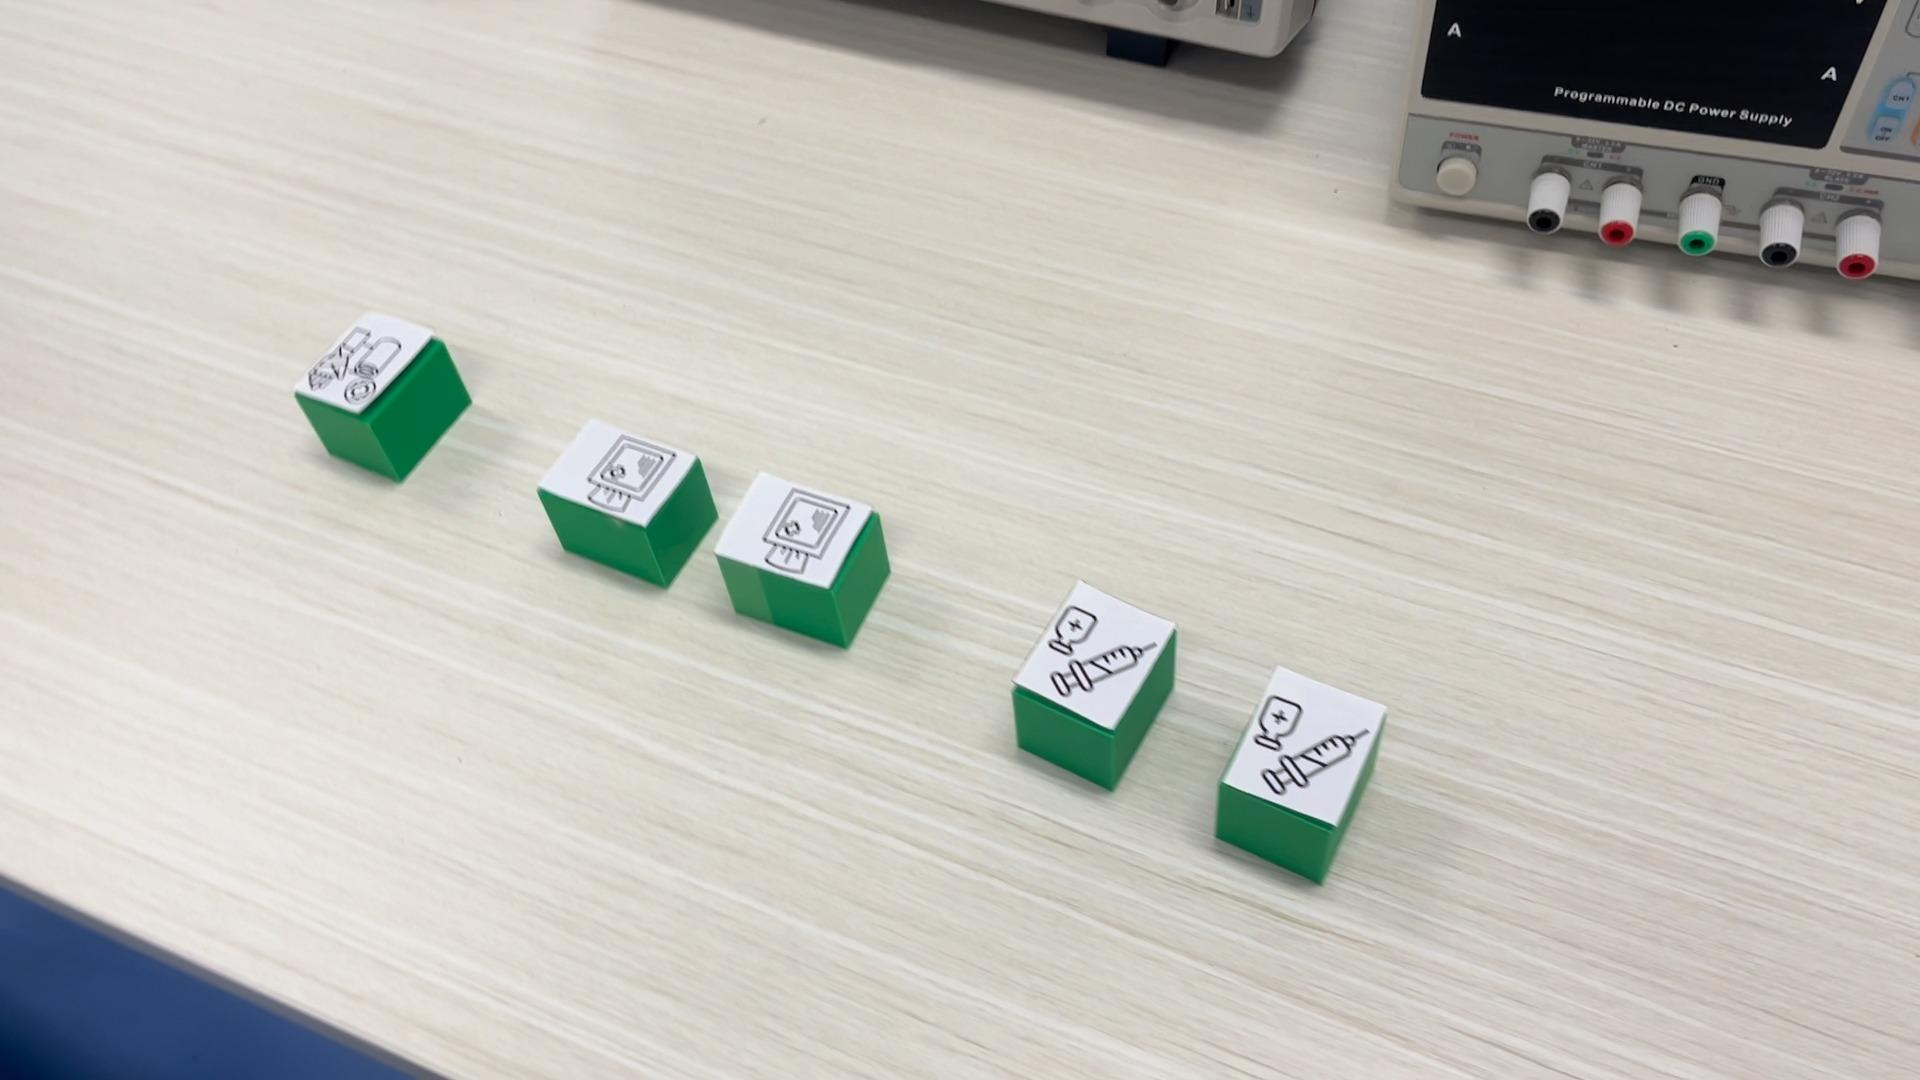Bandages: (290, 309, 473, 483)
Gauze: (537, 415, 727, 588), (715, 471, 891, 647)
antiseptic cream: (1212, 663, 1390, 885), (1007, 580, 1178, 793)
